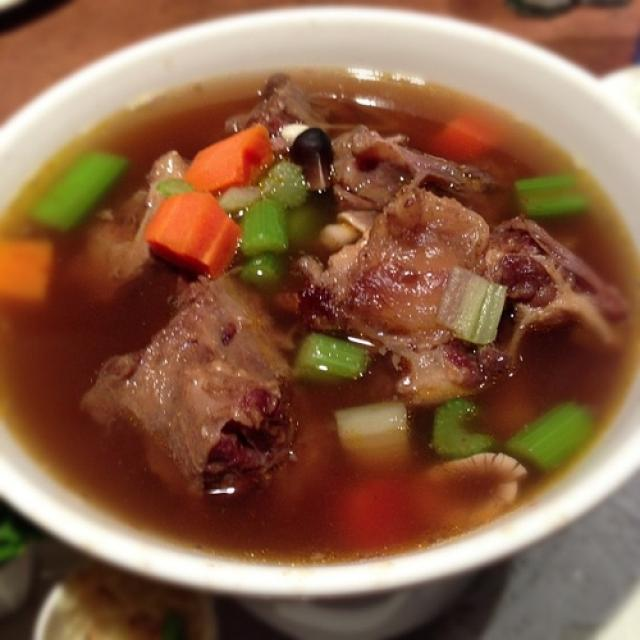汤锅炖物: (11, 18, 617, 608)
